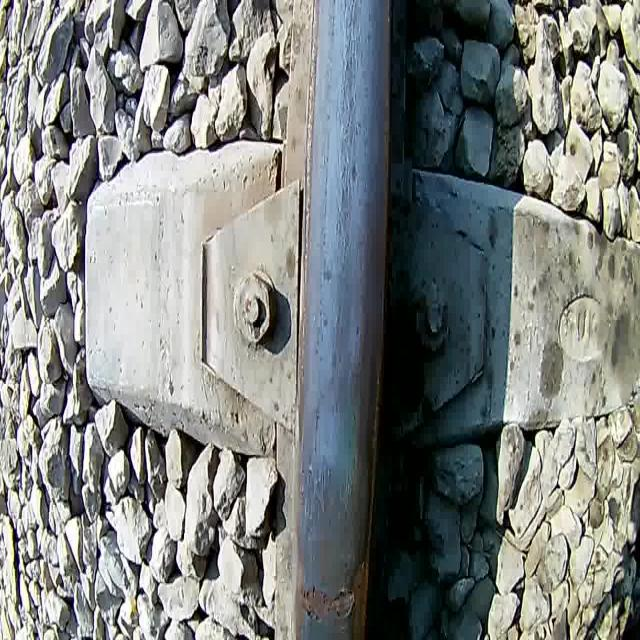Spallings: (290, 579, 366, 630)
